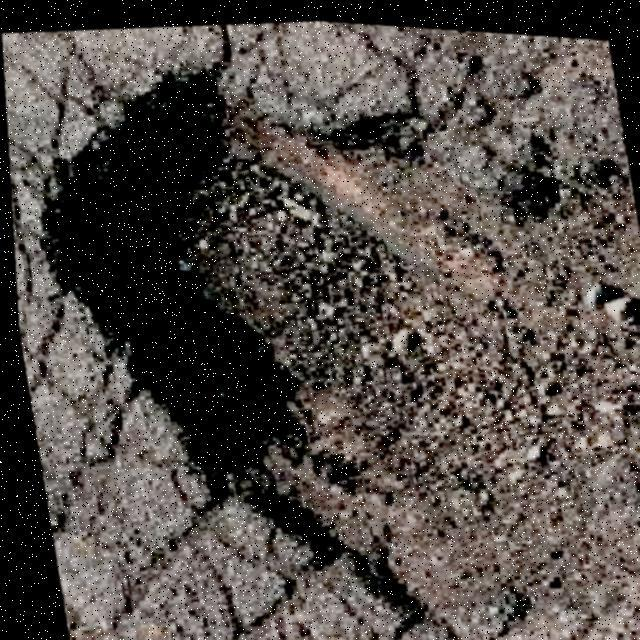pothole: (4, 19, 603, 640)
